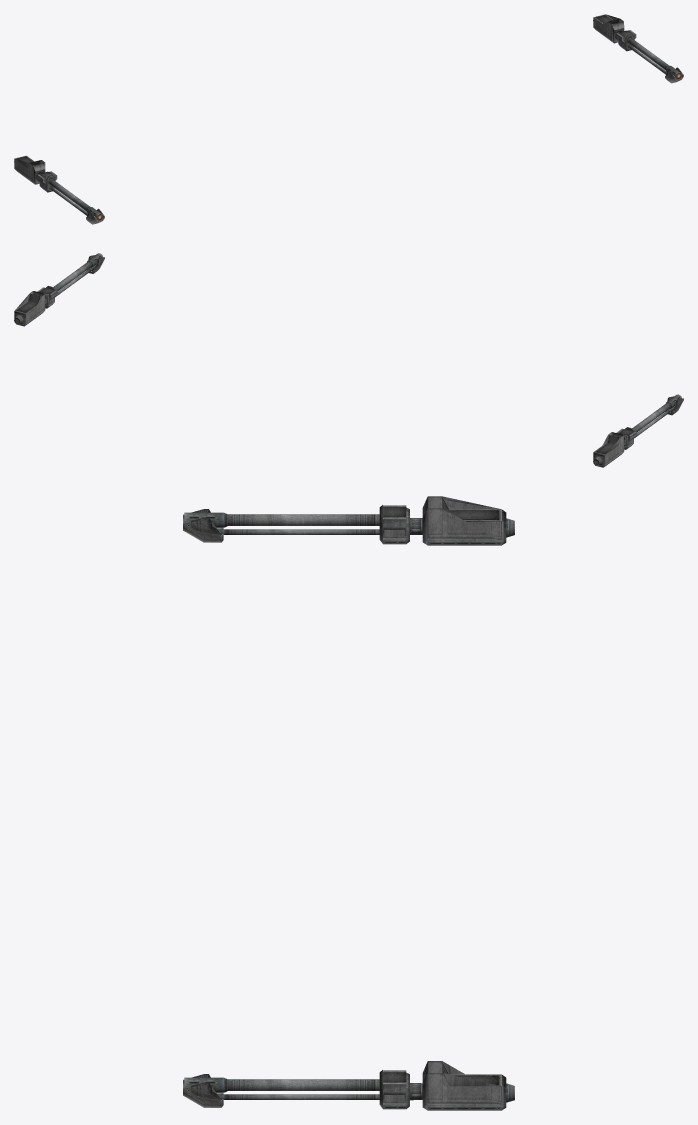
Rendered from hutt_fighter_heavy_weapon2_s06_l0.fbx.
3 views of the same model, one above another, from view 1: azimuth 30°, elevation 25°; view 2: azimuth 150°, elevation 25°; view 3: azimuth 270°, elevation 25° (orthographic). The views are drawn at different scales.
Visible parts, largest first — view 1: mesh_node; view 2: mesh_node; view 3: mesh_node.
Boxes of the visible parts, x1=… form: mesh_node: x1=14, y1=14, x2=683, y2=224; mesh_node: x1=14, y1=253, x2=683, y2=467; mesh_node: x1=183, y1=496, x2=514, y2=1110.
Bounding box in the file's own units: 26.61 × 0.8495 × 6.45.
